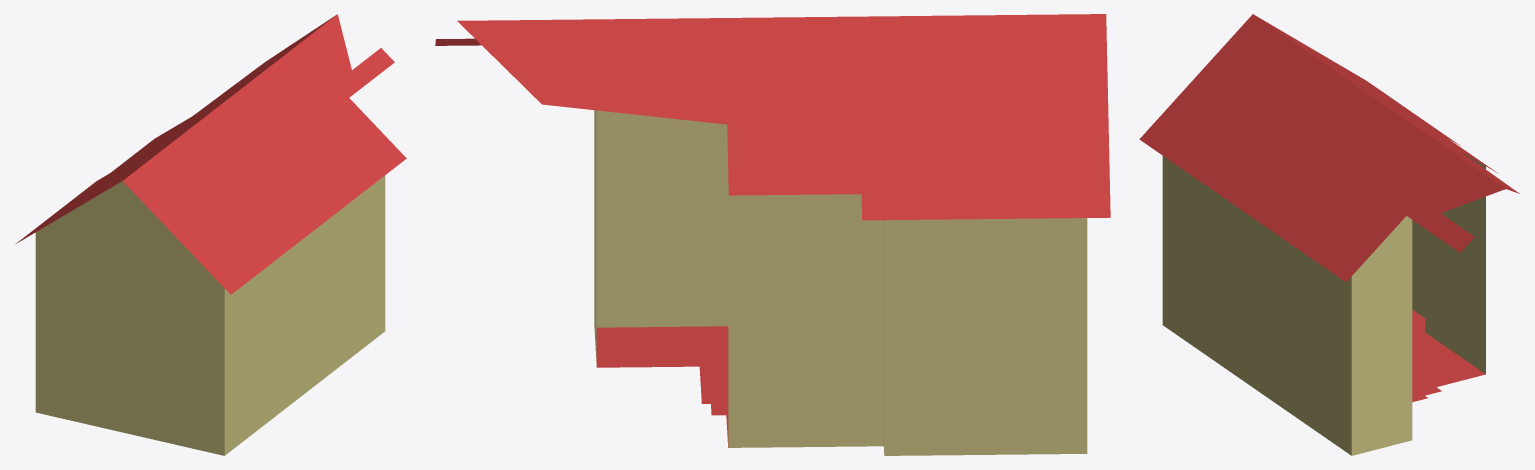
The picture shows the model from 3 angles, left to right: view 1: azimuth 30°, elevation 25°; view 2: azimuth 150°, elevation 25°; view 3: azimuth 270°, elevation 25°; orthographic projection. The views are drawn at different scales.
Bounding box in the file's own units: 23.26 × 16.78 × 13.57.
